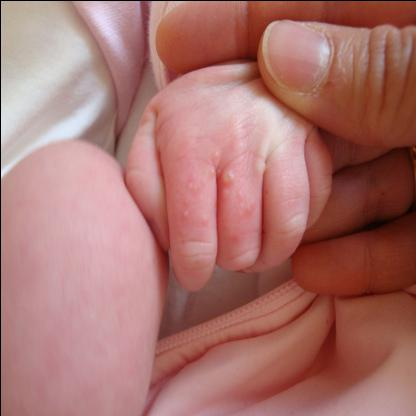Fire ant: (174, 142, 270, 246)
